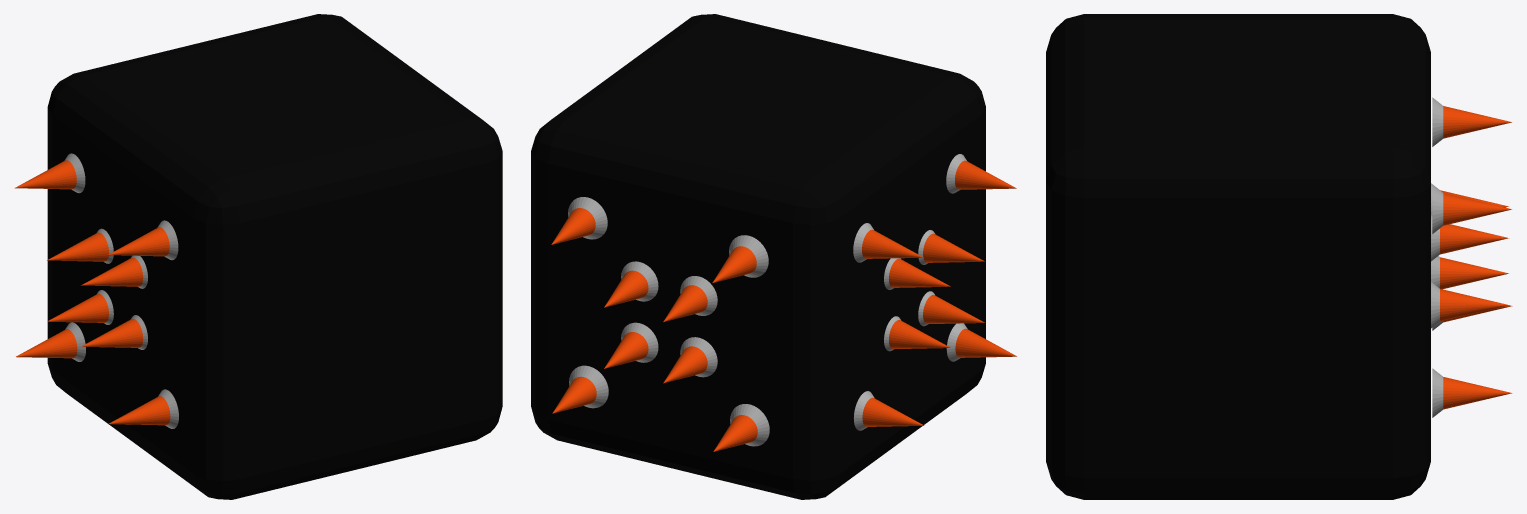
File: dikensol.fbx
3 views of the same model, side by side, from view 1: azimuth 30°, elevation 25°; view 2: azimuth 150°, elevation 25°; view 3: azimuth 270°, elevation 25° (orthographic). The views are drawn at different scales.
Visible parts, largest first — view 1: Cube.002, Circle.067, Circle.069, Circle.066, Circle.068, Circle.070, Circle.071, Circle.073, Circle.072; view 2: Cube.002, Circle.064, Circle.065, Circle.063, Circle.062, Circle.061, Circle.058, Circle.060, Circle.059, Circle.067, Circle.069, Circle.068 (+5 smaller); view 3: Cube.002, Circle.063, Circle.062, Circle.064, Circle.061, Circle.058, Circle.060.
Boxes of the visible parts, x1,y1,x2,y2 form: Cube.002: [47, 14, 502, 499]; Circle.067: [14, 153, 85, 193]; Circle.069: [107, 220, 178, 260]; Circle.066: [108, 389, 178, 428]; Circle.068: [16, 322, 85, 361]; Circle.070: [47, 290, 113, 324]; Circle.071: [81, 315, 147, 349]; Circle.073: [47, 228, 113, 263]; Circle.072: [81, 255, 147, 288]; Cube.002: [531, 14, 985, 499]; Circle.064: [551, 197, 607, 244]; Circle.065: [713, 404, 769, 451]; Circle.063: [552, 365, 608, 413]; Circle.062: [712, 235, 768, 283]; Circle.061: [604, 322, 658, 368]; Circle.058: [604, 261, 658, 307]; Circle.060: [663, 337, 717, 383]; Circle.059: [663, 276, 717, 322]; Circle.067: [853, 223, 923, 262]; Circle.069: [946, 154, 1016, 193]; Circle.068: [853, 391, 924, 430]; Cube.002: [1046, 14, 1430, 499]; Circle.063: [1432, 368, 1512, 417]; Circle.062: [1432, 97, 1511, 146]; Circle.064: [1432, 184, 1511, 233]; Circle.061: [1431, 282, 1509, 328]; Circle.058: [1431, 215, 1509, 261]; Circle.060: [1431, 256, 1508, 289].
Bounding box in the file's own units: 46.32 × 38.6 × 46.82.
